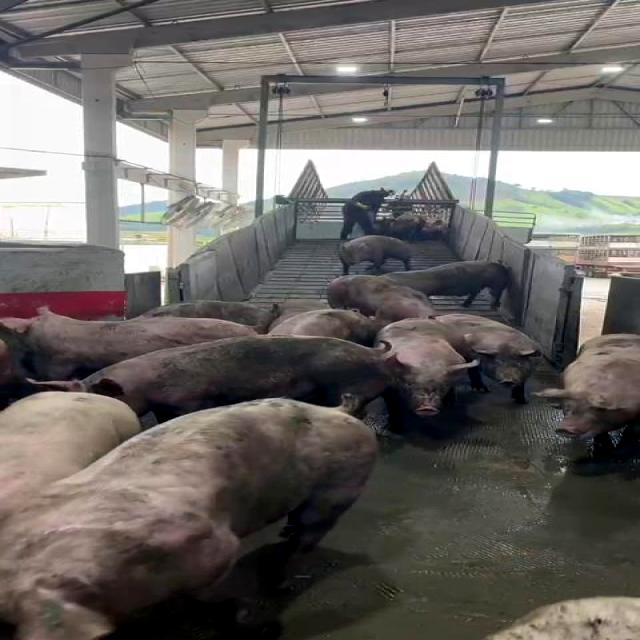pig: (2, 398, 378, 639), (82, 336, 392, 421), (0, 308, 259, 380), (0, 391, 140, 519), (539, 334, 640, 461), (378, 318, 479, 432), (438, 314, 543, 402), (385, 261, 511, 308), (328, 275, 435, 321), (140, 300, 275, 333), (268, 309, 383, 346), (339, 235, 412, 274)
